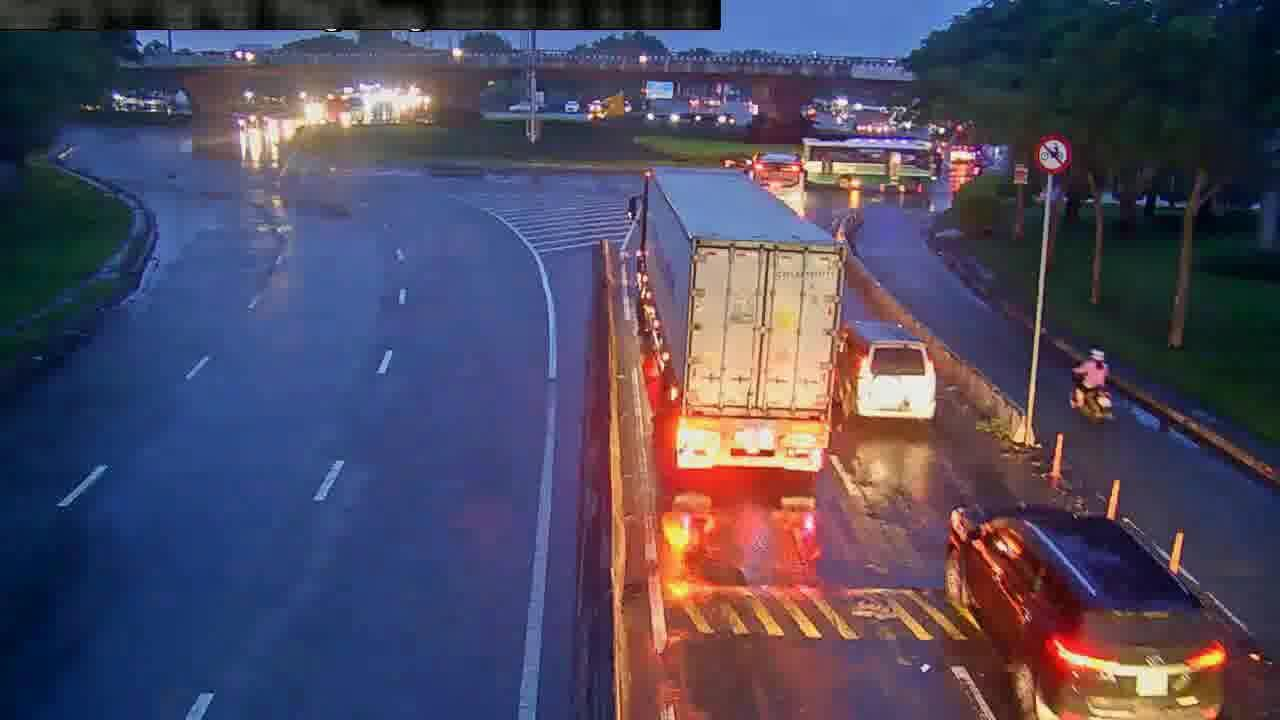14: (798, 137, 938, 200), (744, 147, 808, 219)
8: (623, 167, 839, 473)
container: (945, 504, 1230, 719), (833, 316, 939, 427)
motorbike: (1066, 347, 1115, 427)
